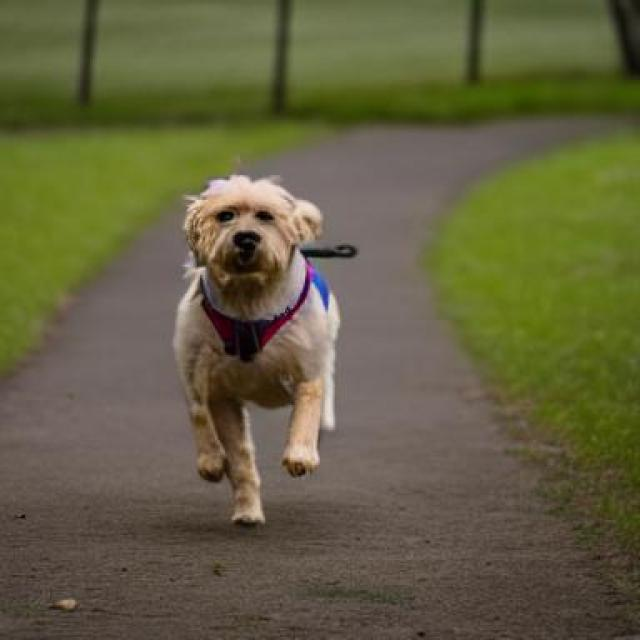Dog: (172, 174, 342, 526)
